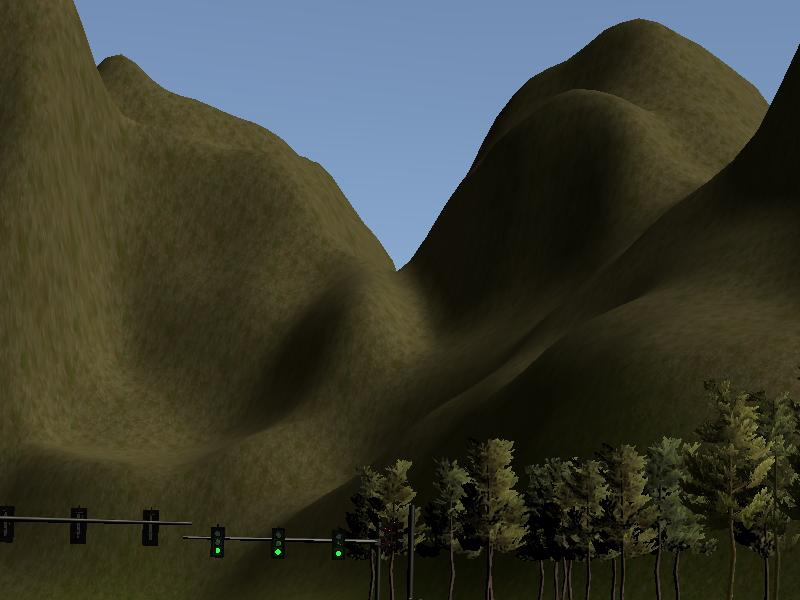Green: (272, 528, 285, 558)
